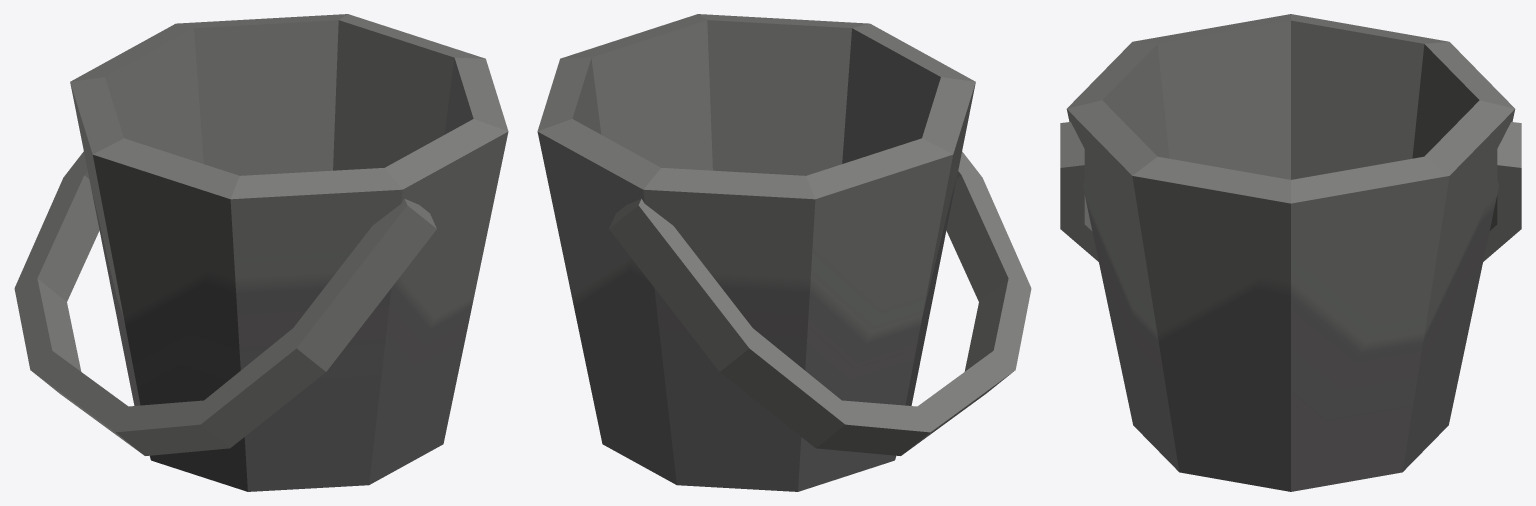
File: apoc_SM_Prop_Tool_Bucket_01.gltf
3 renders of one model, left to right at view 1: azimuth 30°, elevation 25°; view 2: azimuth 150°, elevation 25°; view 3: azimuth 270°, elevation 25°, orthographic.
Parts seen in each view (by area): view 1: SM_Prop_Tool_Bucket_01; view 2: SM_Prop_Tool_Bucket_01; view 3: SM_Prop_Tool_Bucket_01.
Part boxes in pixels (x1,y1,x2,y2): SM_Prop_Tool_Bucket_01: [14, 14, 508, 491]; SM_Prop_Tool_Bucket_01: [537, 14, 1031, 491]; SM_Prop_Tool_Bucket_01: [1060, 14, 1521, 491].
Size of the model in its own units: 0.3716 by 0.2828 by 0.3635.
1 material, 1 textured.
